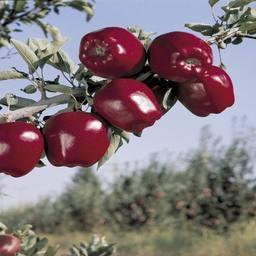apple: (93, 78, 163, 134), (44, 111, 111, 166), (79, 26, 147, 77), (147, 32, 213, 81), (172, 65, 235, 116), (1, 120, 43, 176)
